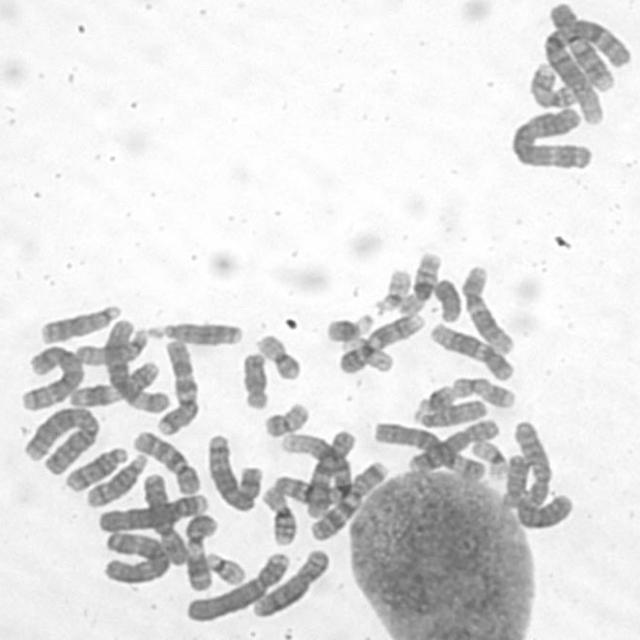A1: (542, 20, 630, 124), (273, 432, 353, 504)
A2: (512, 420, 574, 528), (25, 407, 100, 475)
A3: (510, 106, 590, 169), (103, 530, 170, 583)
B4: (186, 552, 290, 622), (98, 493, 208, 532)
B5: (206, 433, 262, 511), (20, 345, 84, 410)
C10: (306, 430, 356, 518), (132, 431, 200, 494)
C11: (70, 361, 160, 406), (185, 515, 219, 592)
C12: (428, 322, 514, 381), (462, 266, 514, 355)
C6: (374, 422, 486, 482), (103, 319, 170, 412)
C7: (310, 460, 389, 540), (155, 340, 199, 436)
C8: (252, 548, 331, 617), (142, 474, 189, 565)
C9: (548, 3, 614, 91), (339, 314, 426, 372)
D13: (40, 305, 122, 344), (146, 321, 244, 346)
D14: (86, 453, 149, 507), (66, 446, 128, 491)
D15: (73, 327, 148, 366), (413, 398, 489, 428)
E16: (398, 251, 442, 315), (263, 486, 298, 546)
E17: (528, 63, 577, 108), (452, 376, 515, 409)
E18: (502, 455, 532, 508), (242, 353, 268, 410)
F19: (340, 338, 394, 372), (470, 440, 509, 482)
F20: (256, 336, 300, 380), (264, 403, 310, 436)
G21: (326, 313, 374, 342), (417, 385, 454, 411)
G22: (375, 270, 411, 316), (205, 553, 245, 586)
X: (407, 418, 500, 471)
Y: (434, 278, 462, 323)
